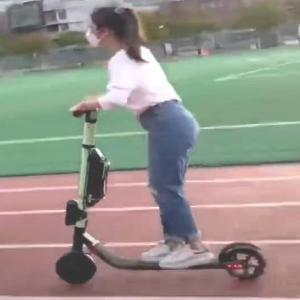with scooter: (55, 7, 266, 285)
